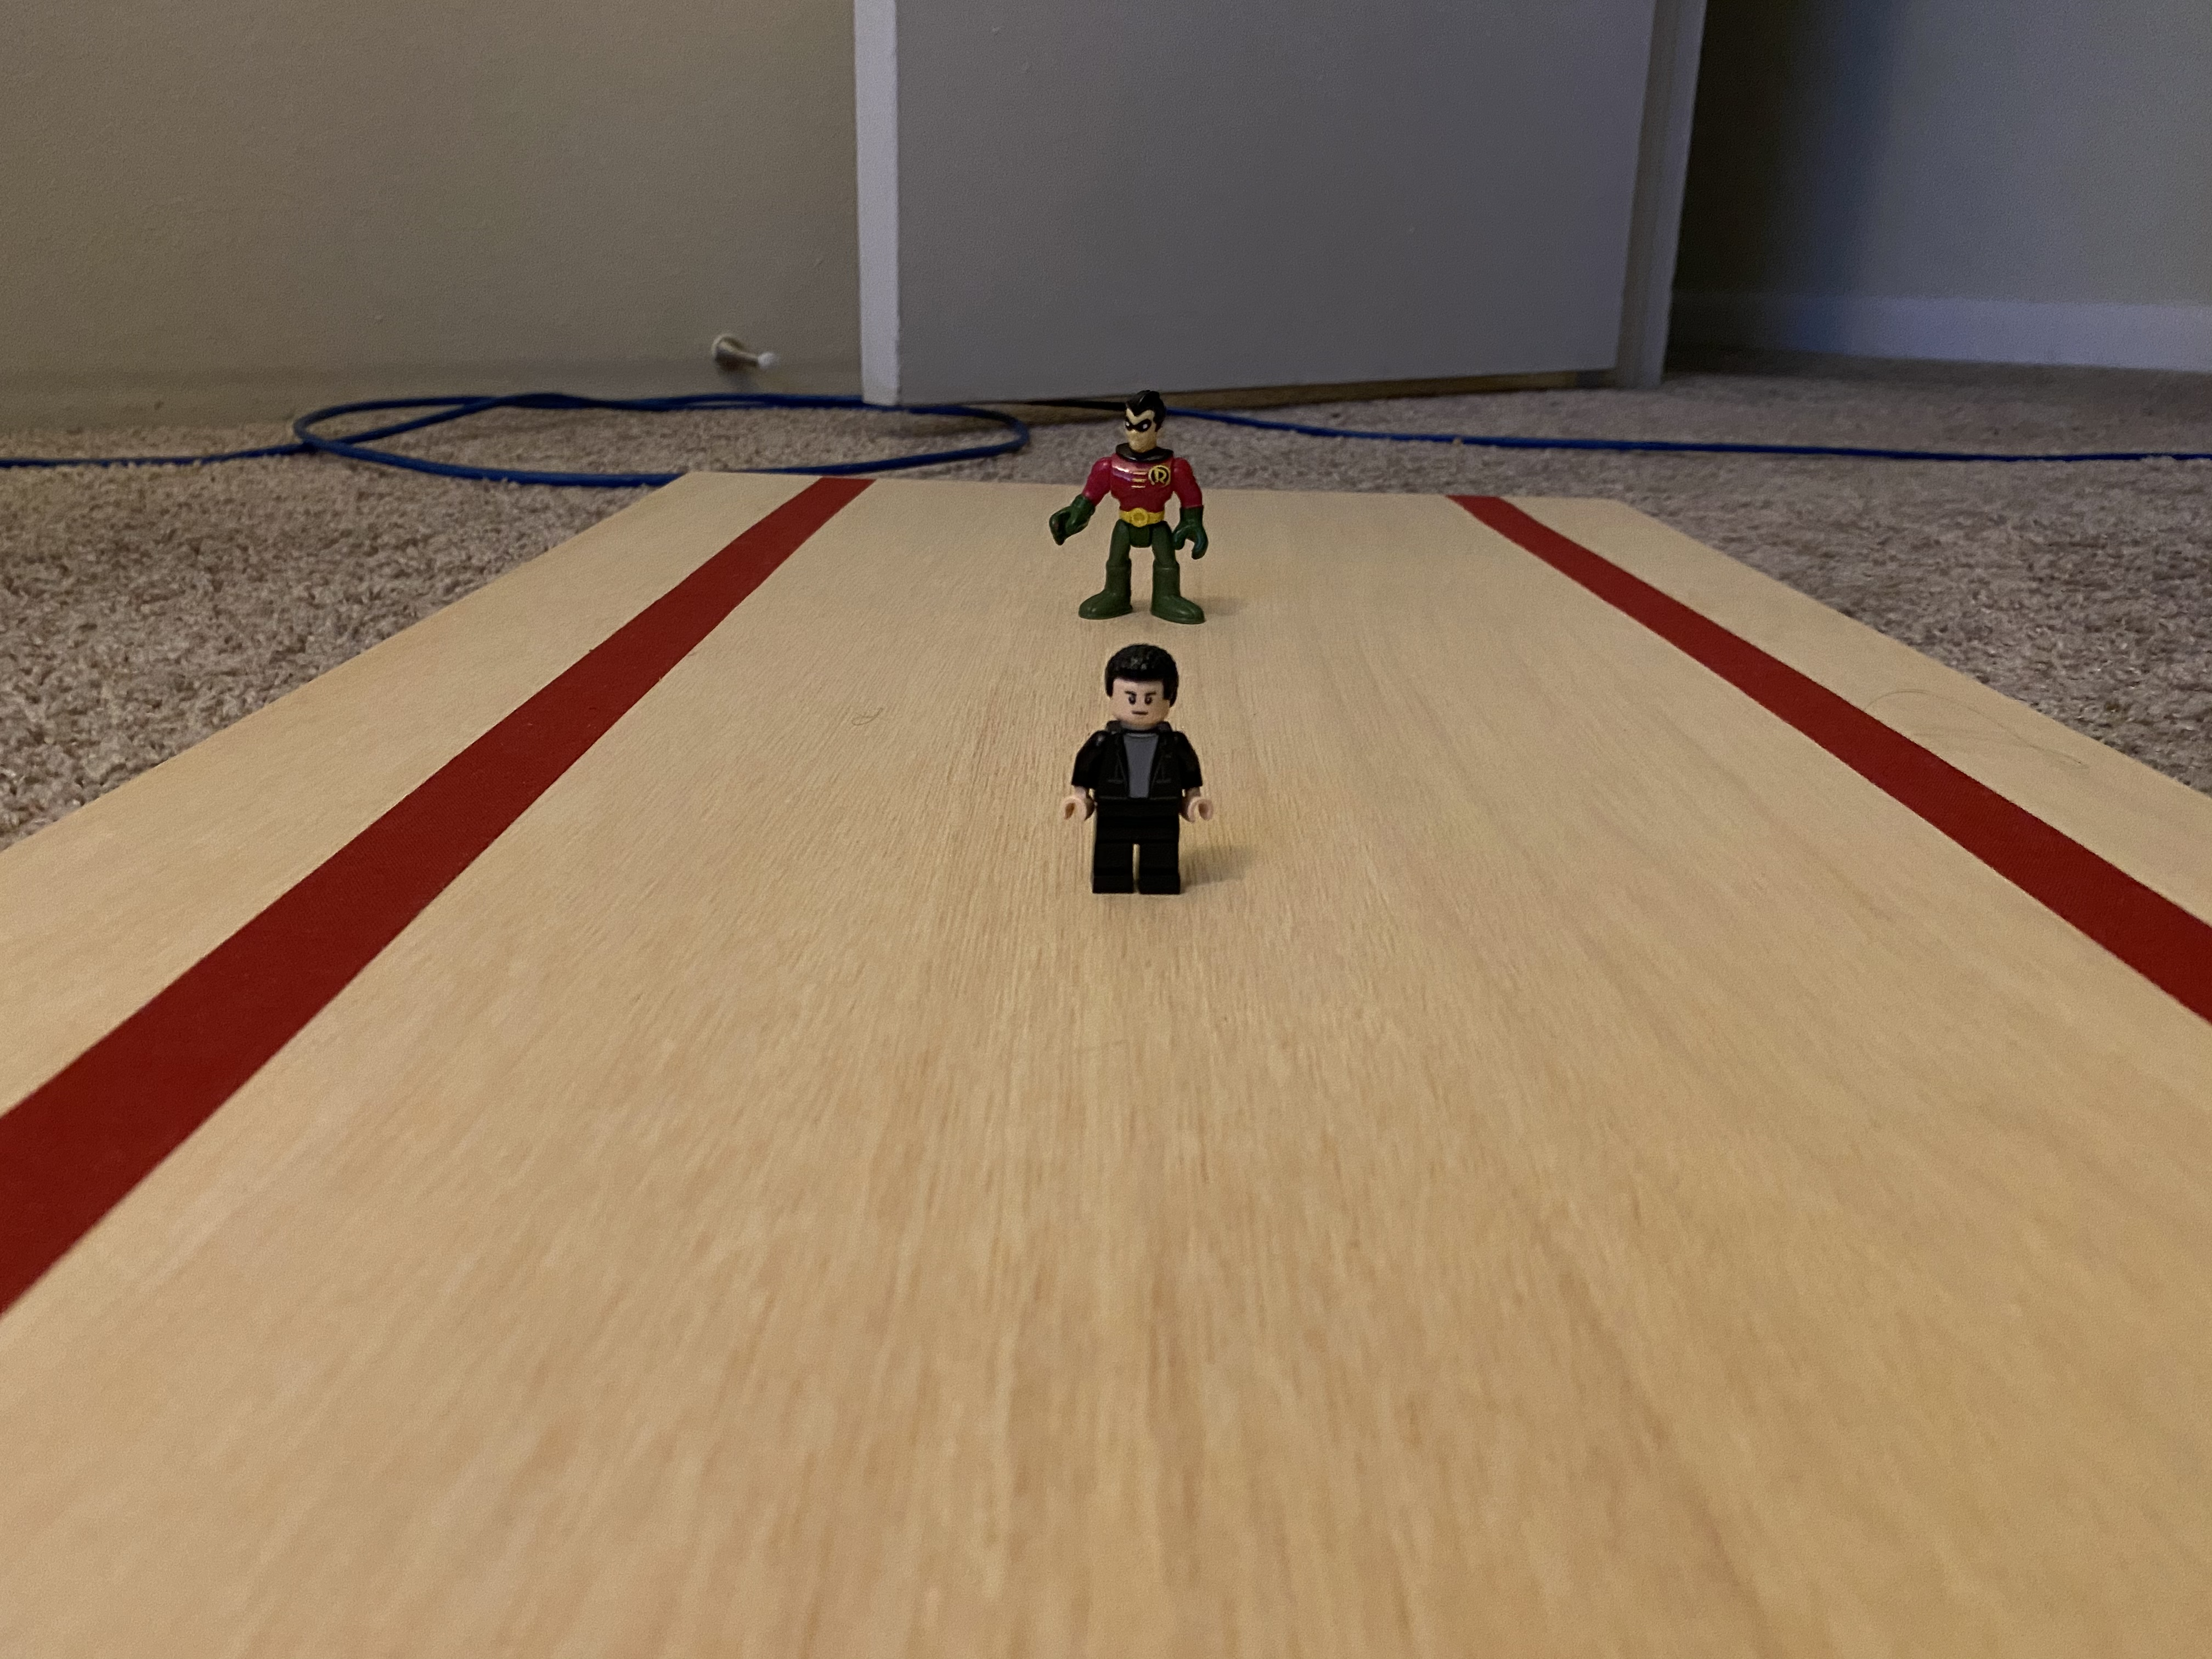Person: (1047, 633, 1239, 926), (1033, 386, 1243, 624)
